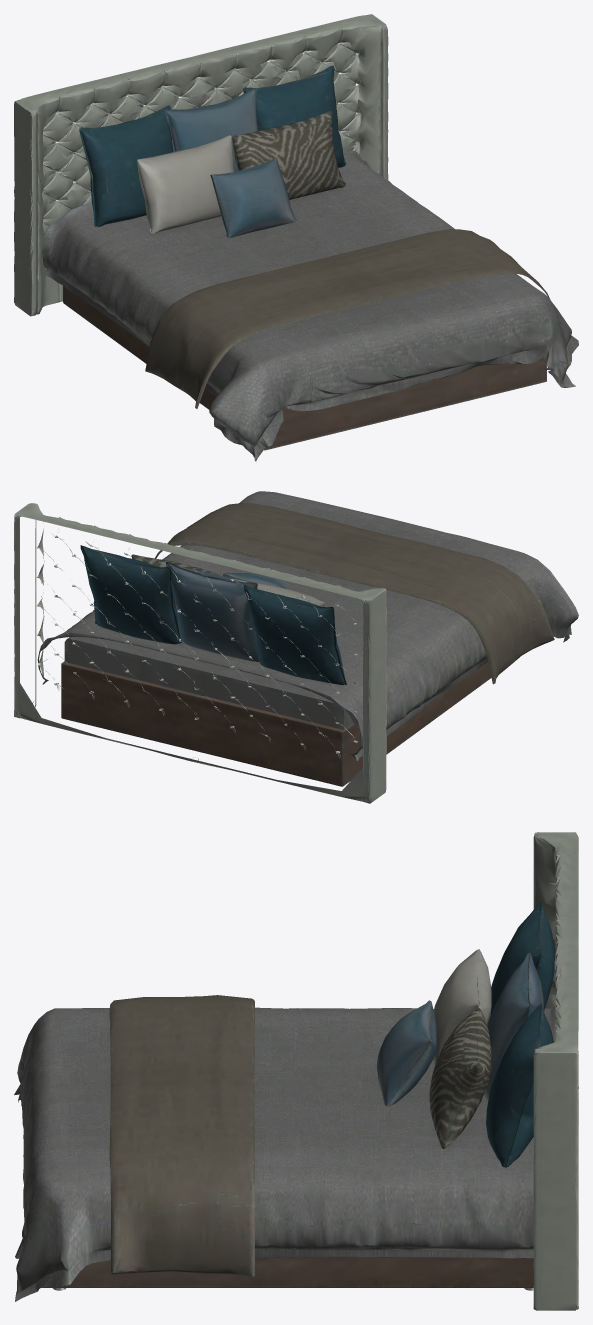
3 renders of one model, top to bottom at view 1: azimuth 30°, elevation 25°; view 2: azimuth 150°, elevation 25°; view 3: azimuth 270°, elevation 25°, orthographic. The views are drawn at different scales.
Parts seen in each view (by area): view 1: solid_001; view 2: solid_001; view 3: solid_001.
Part boxes in pixels (<box>): solid_001: <box>14,14,578,461</box>; solid_001: <box>14,491,578,803</box>; solid_001: <box>14,832,578,1310</box>.
Bounding box in the file's own units: 1.88 × 1.02 × 1.97.
1 material, 1 textured.
